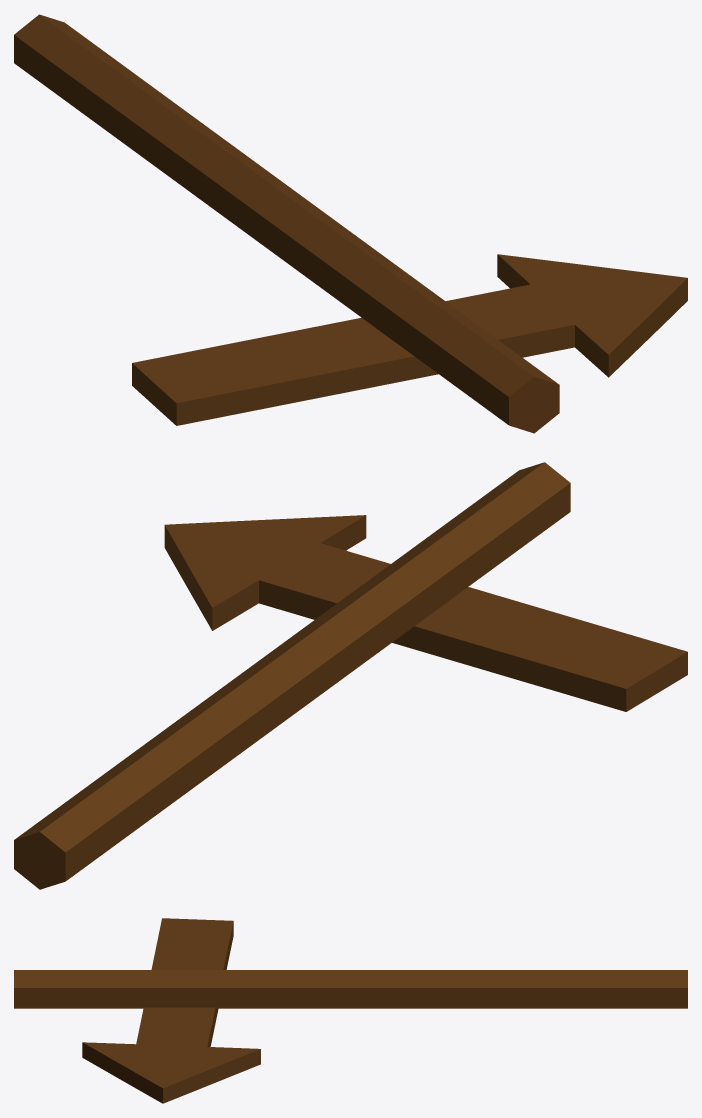
3 renders of one model, top to bottom at view 1: azimuth 30°, elevation 25°; view 2: azimuth 150°, elevation 25°; view 3: azimuth 270°, elevation 25°, orthographic. The views are drawn at different scales.
Visible parts, largest first — view 1: group_0_6306067; view 2: group_0_6306067; view 3: group_0_6306067.
Part boxes in pixels (bbox=[...]): group_0_6306067: bbox=[14, 14, 687, 433]; group_0_6306067: bbox=[14, 462, 687, 889]; group_0_6306067: bbox=[14, 918, 687, 1103].
Size of the model in its own units: 47.19 by 6 by 79.
